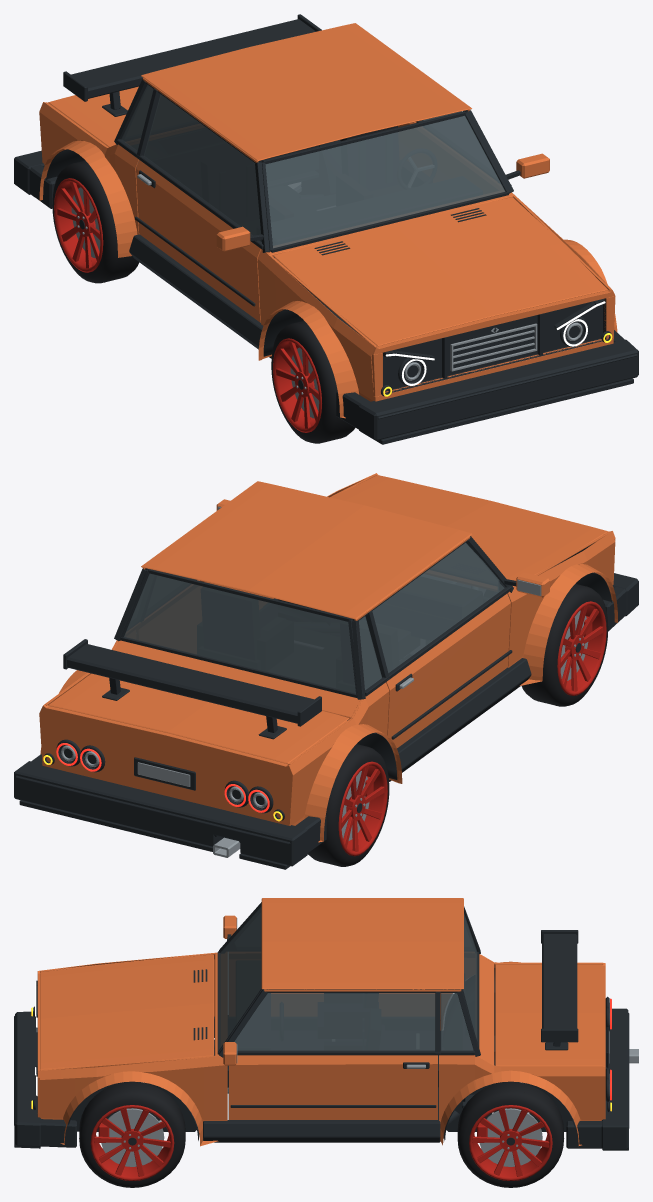
The model's file is bulancia-r002.glb.
The picture shows the model from 3 angles, top to bottom: view 1: azimuth 30°, elevation 25°; view 2: azimuth 150°, elevation 25°; view 3: azimuth 270°, elevation 25°; orthographic projection. The views are drawn at different scales.
Visible parts, largest first — view 1: hood.paint, roof.paint, windshield.glass.001, front-bumper.dark, right-door.paint, right-window.glass, right-front-fender.paint, front-grille.dark, right-rear-quarter.paint, spoiler.dark, front-grille.paint, right-sill.dark (+18 smaller); view 2: roof.paint, rear-window.glass.001, rear-bumper.dark, rear-panel.paint, hood.paint, trunk.paint, right-door.paint, spoiler.dark, right-window.glass, right-front-fender.paint, right-rear-quarter.paint, right-sill.dark (+15 smaller); view 3: roof.paint, hood.paint, left-door.paint, left-window.glass, trunk.paint, left-front-fender.paint, left-rear-quarter.paint, left-sill.dark, spoiler.dark, wheel:0.rubber, wheel:2.rubber, front-bumper.dark (+18 smaller).
Part boxes in pixels (x1,y1,x2,y2): hood.paint: [273, 197, 607, 346]; roof.paint: [141, 23, 471, 162]; windshield.glass.001: [265, 115, 505, 248]; front-bumper.dark: [336, 330, 638, 444]; right-door.paint: [136, 160, 261, 322]; right-window.glass: [144, 94, 261, 241]; right-front-fender.paint: [257, 249, 376, 418]; front-grille.dark: [383, 298, 606, 393]; right-rear-quarter.paint: [39, 102, 139, 257]; spoiler.dark: [63, 14, 321, 116]; front-grille.paint: [371, 289, 615, 401]; right-sill.dark: [129, 234, 271, 358]; roof.paint: [141, 481, 471, 620]; rear-window.glass.001: [124, 573, 355, 693]; rear-bumper.dark: [14, 754, 326, 869]; rear-panel.paint: [39, 704, 295, 825]; hood.paint: [331, 475, 607, 587]; trunk.paint: [48, 673, 349, 764]; right-door.paint: [386, 593, 510, 747]; spoiler.dark: [63, 639, 321, 739]; right-window.glass: [372, 542, 504, 672]; right-front-fender.paint: [507, 531, 617, 685]; right-rear-quarter.paint: [288, 682, 402, 842]; right-sill.dark: [389, 658, 531, 781]; roof.paint: [261, 898, 463, 991]; hood.paint: [40, 954, 213, 1069]; left-door.paint: [229, 1055, 437, 1119]; left-window.glass: [234, 993, 435, 1050]; trunk.paint: [495, 964, 602, 1065]; left-front-fender.paint: [40, 1055, 227, 1146]; left-rear-quarter.paint: [439, 1055, 603, 1145]; left-sill.dark: [203, 1120, 440, 1142]; spoiler.dark: [541, 930, 578, 1050]; wheel:0.rubber: [79, 1081, 185, 1187]; wheel:2.rubber: [457, 1081, 564, 1187]; front-bumper.dark: [14, 1011, 76, 1148].
Size of the model in its own units: 2.21 by 1.42 by 4.23.
